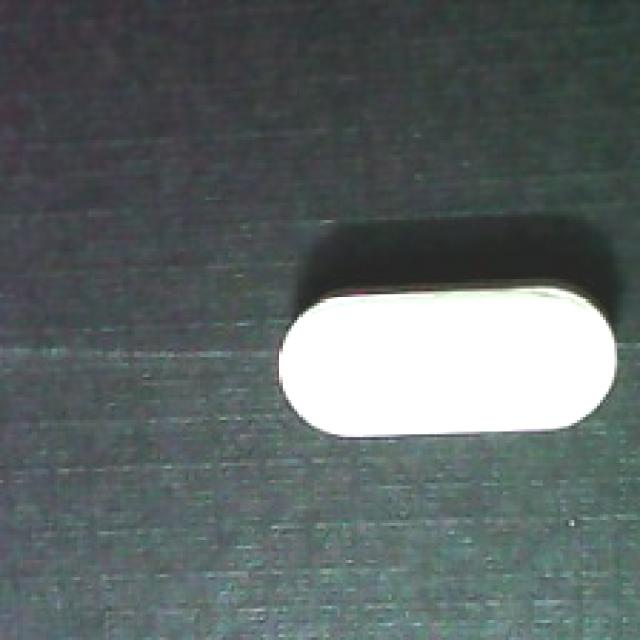no-defect: (274, 269, 620, 446)
